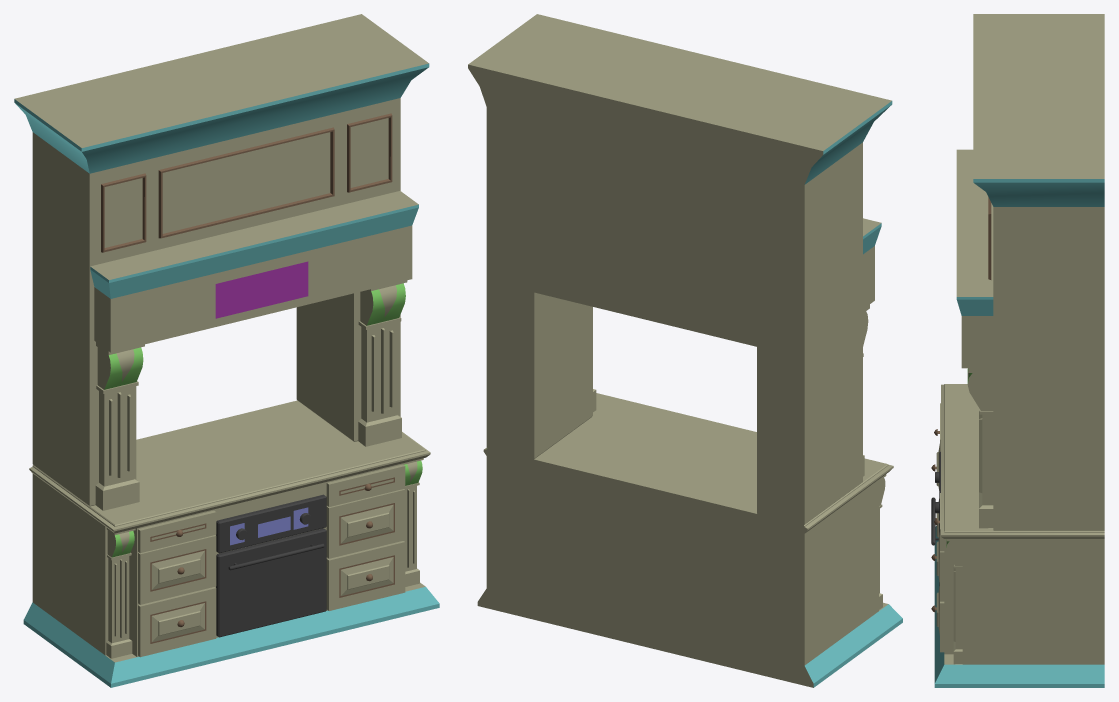
Rendered from HAIERZTKG0302.FBX.
3 views of the same model, side by side, from view 1: azimuth 30°, elevation 25°; view 2: azimuth 150°, elevation 25°; view 3: azimuth 270°, elevation 25° (orthographic). The views are drawn at different scales.
Visible parts, largest first — view 1: HAIERZTKG0302; view 2: HAIERZTKG0302; view 3: HAIERZTKG0302.
Boxes of the visible parts, <box> form: HAIERZTKG0302: <box>14,14,439,687</box>; HAIERZTKG0302: <box>468,14,902,687</box>; HAIERZTKG0302: <box>931,14,1104,687</box>.
Bounding box in the file's own units: 4054 × 5880 × 1801.
